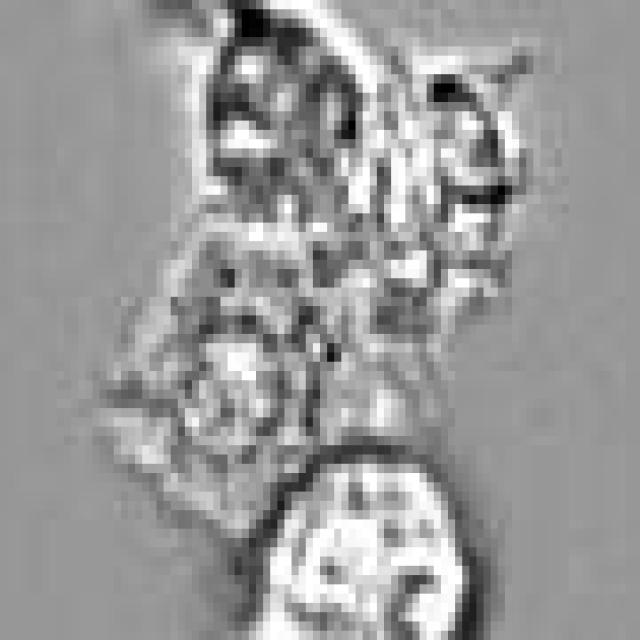Cancer Cell: (135, 214, 455, 556), (199, 9, 363, 223)
WBC: (263, 436, 469, 640), (349, 74, 519, 316)
